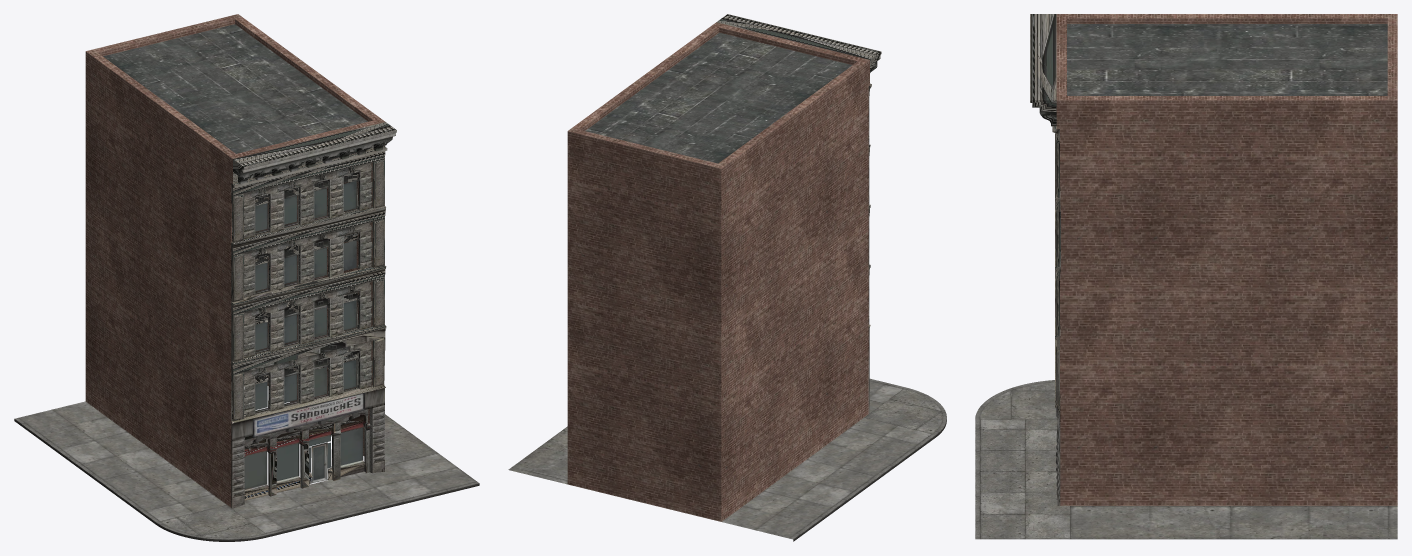
File: oldnyc.glb
The picture shows the model from 3 angles, left to right: view 1: azimuth 30°, elevation 25°; view 2: azimuth 150°, elevation 25°; view 3: azimuth 270°, elevation 25°; orthographic projection. The views are drawn at different scales.
Parts seen in each view (by area): view 1: Object_8, Object_12, Object_6, Object_4, Object_10, Object_14; view 2: Object_8, Object_4, Object_6, Object_12; view 3: Object_8, Object_6, Object_4, Object_12.
Part boxes in pixels (bbox=[...]): Object_8: bbox=[85, 14, 384, 507]; Object_12: bbox=[231, 122, 396, 508]; Object_6: bbox=[14, 401, 479, 541]; Object_4: bbox=[103, 24, 367, 153]; Object_10: bbox=[244, 181, 362, 488]; Object_14: bbox=[252, 393, 365, 437]; Object_8: bbox=[567, 22, 869, 521]; Object_4: bbox=[585, 32, 852, 163]; Object_6: bbox=[508, 378, 946, 541]; Object_12: bbox=[716, 14, 881, 413]; Object_8: bbox=[1056, 14, 1397, 505]; Object_6: bbox=[975, 380, 1397, 539]; Object_4: bbox=[1067, 24, 1387, 95]; Object_12: bbox=[1030, 14, 1060, 505].
Bounding box in the file's own units: 97.82 × 117 × 109.
6 materials, 6 textured.
